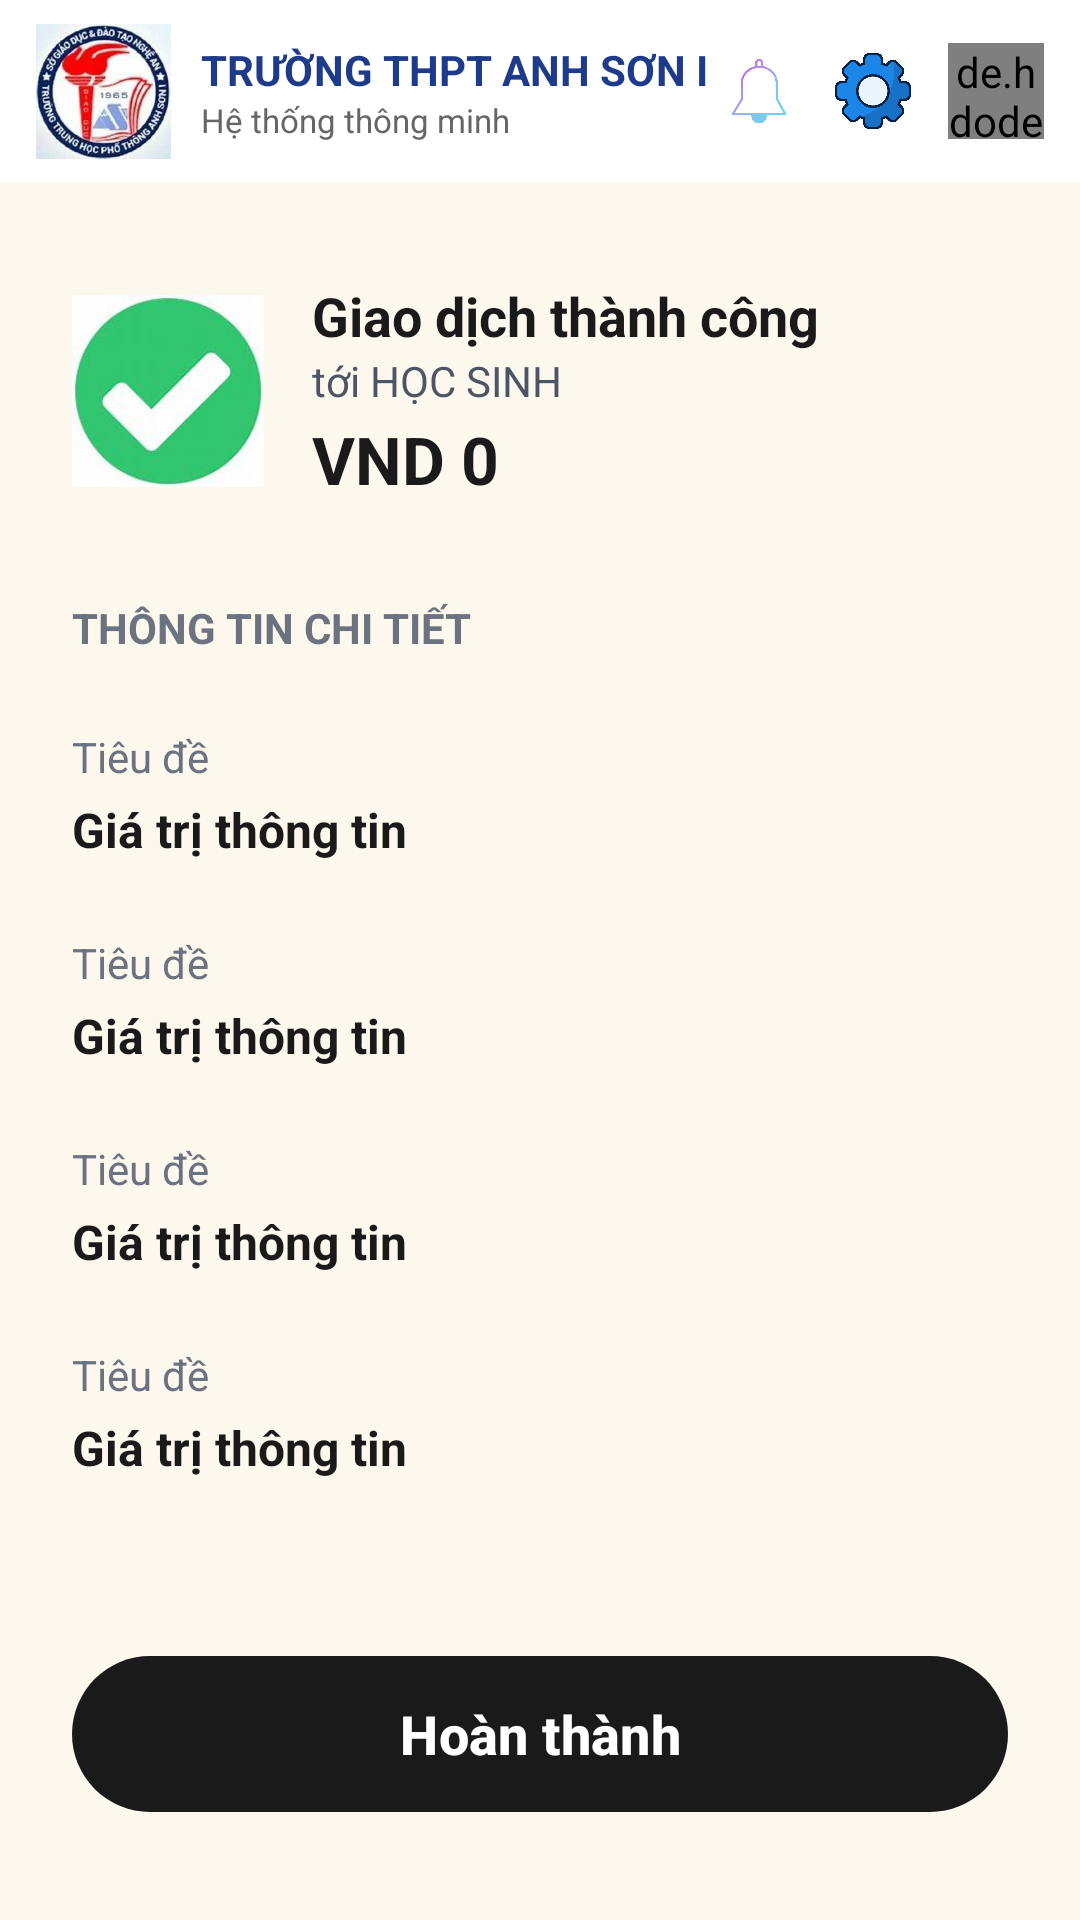

Named icons in this screenshot (1080w x 1920h) and their bounding boxes, (x1, y1, x2, y2):
Notification: (732, 59, 786, 124)
Settings: (835, 53, 911, 129)
thanhtoanthanhcong: (74, 297, 262, 486)
